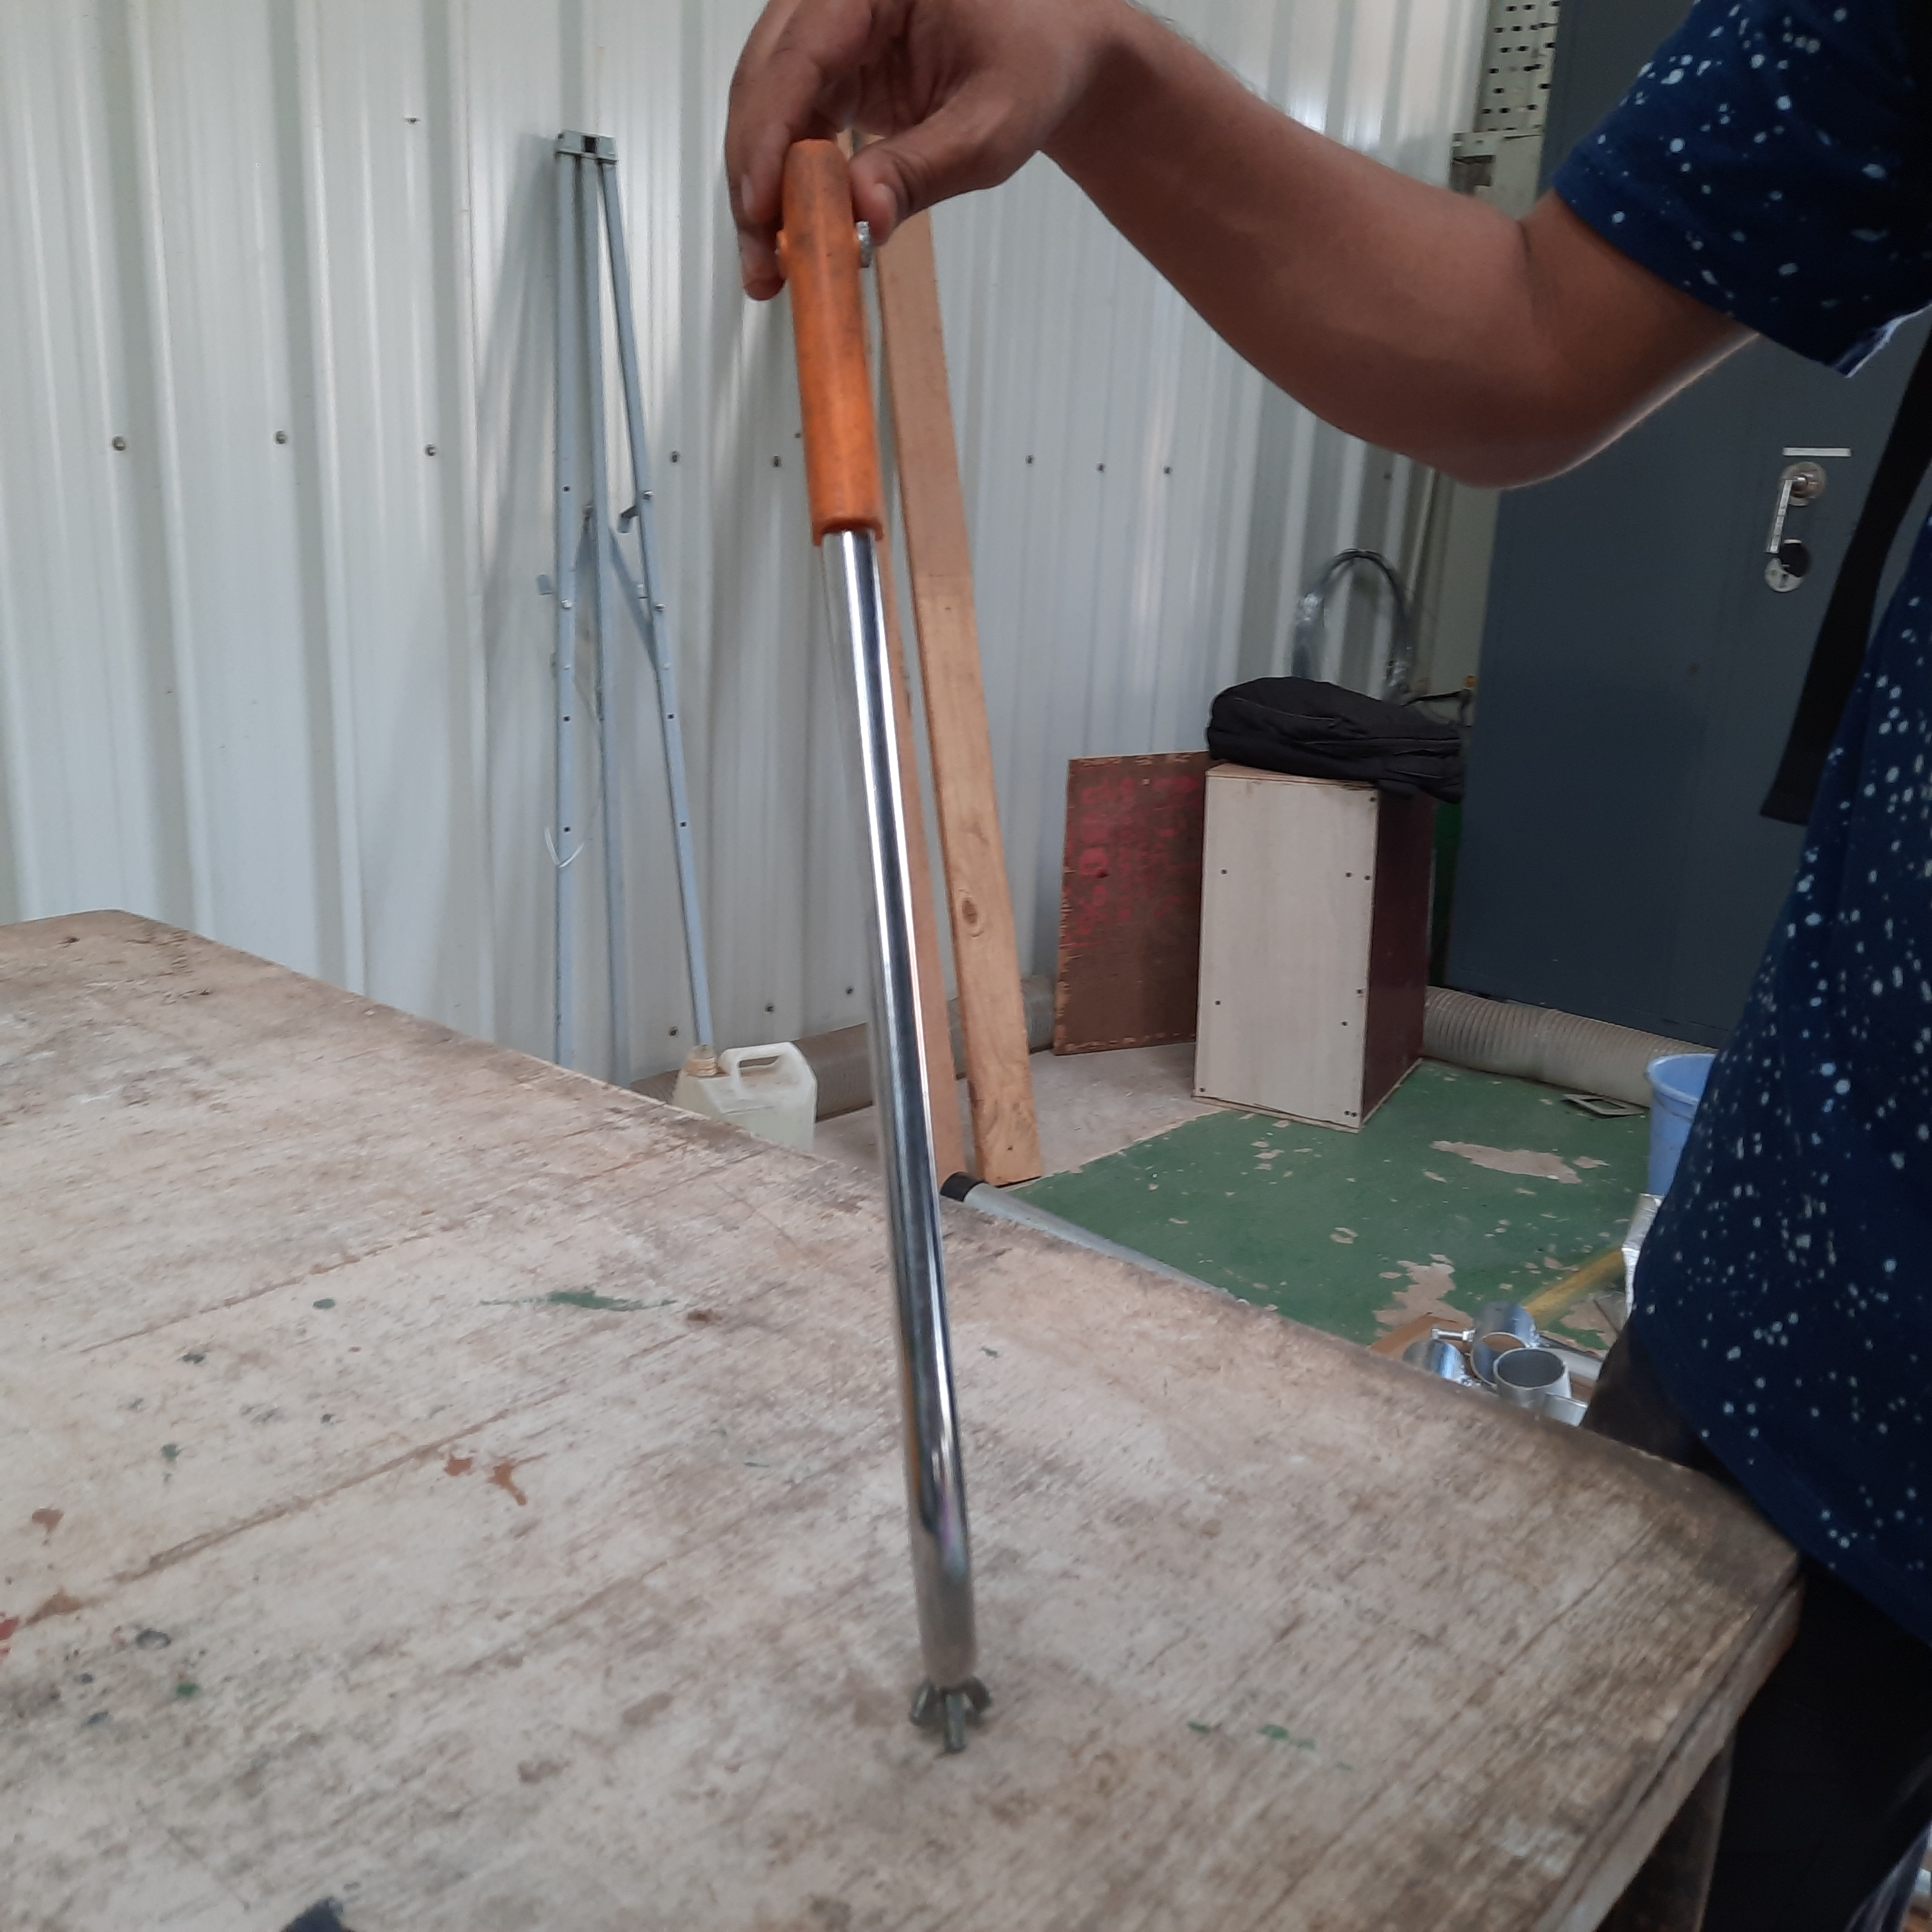Hexaframe: (702, 136, 1161, 1782)
